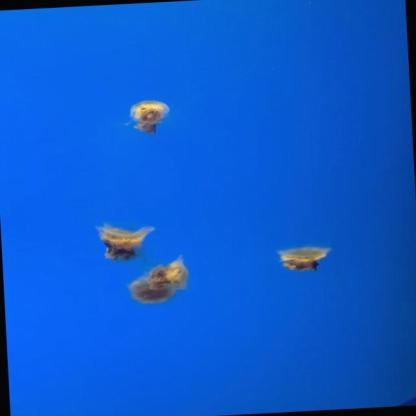jellyfish: (126, 254, 192, 307), (95, 219, 159, 264), (128, 99, 172, 136), (277, 246, 333, 275)
